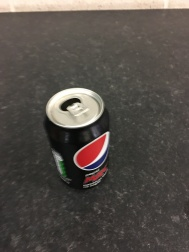can_black: (33, 81, 130, 201)
